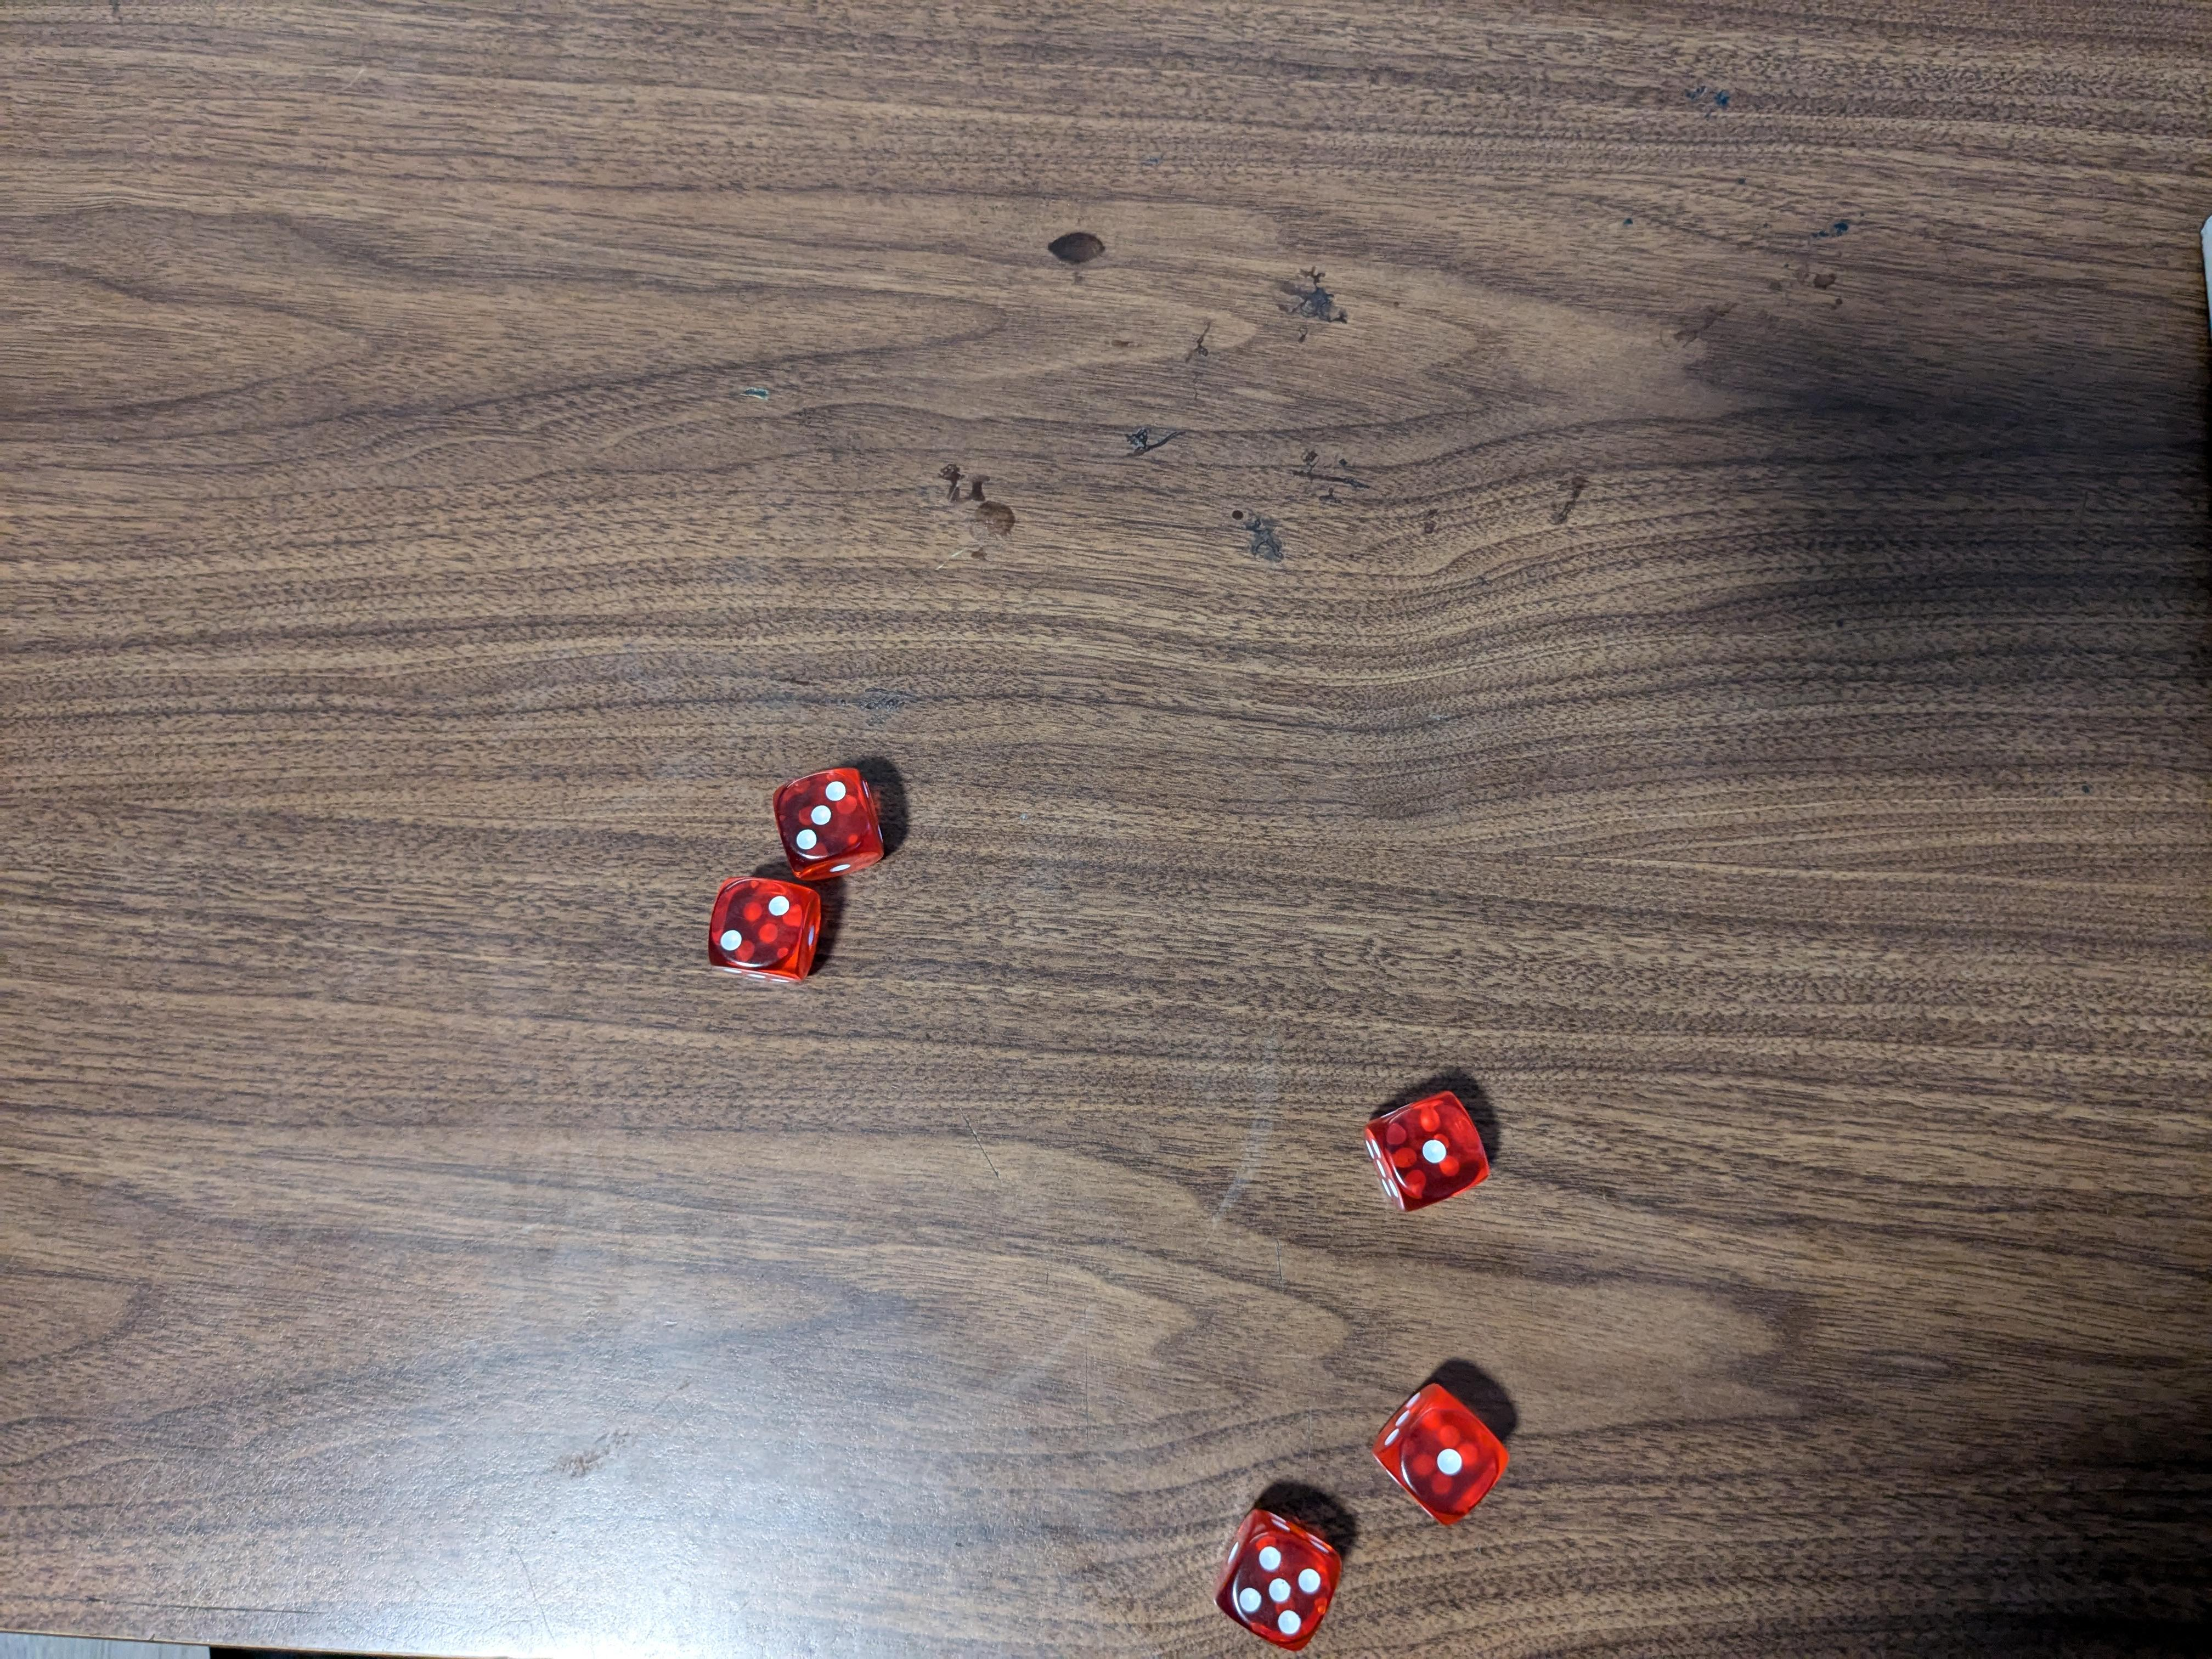five: (1217, 1504, 1343, 1645)
one: (1371, 1377, 1507, 1520), (1364, 1084, 1493, 1206)
three: (773, 765, 892, 882)
two: (709, 877, 833, 992)
